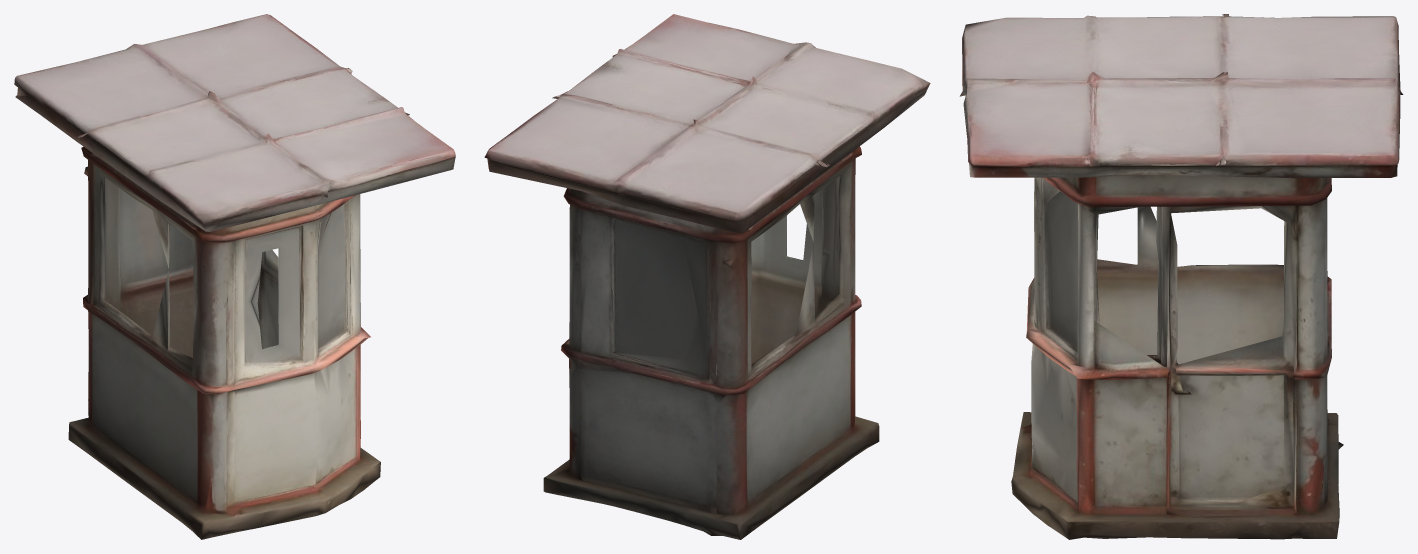
The model's file is qr_booth.glb.
3 views of the same model, side by side, from view 1: azimuth 30°, elevation 25°; view 2: azimuth 150°, elevation 25°; view 3: azimuth 270°, elevation 25° (orthographic). The views are drawn at different scales.
Visible parts, largest first — view 1: tripo_node_1440e89d-fc57-4e28-9fdc-a1f017408dc4; view 2: tripo_node_1440e89d-fc57-4e28-9fdc-a1f017408dc4; view 3: tripo_node_1440e89d-fc57-4e28-9fdc-a1f017408dc4.
Boxes of the visible parts, left/top/right/bottom form: tripo_node_1440e89d-fc57-4e28-9fdc-a1f017408dc4: left=14, top=14, right=455, bottom=539; tripo_node_1440e89d-fc57-4e28-9fdc-a1f017408dc4: left=484, top=14, right=930, bottom=539; tripo_node_1440e89d-fc57-4e28-9fdc-a1f017408dc4: left=959, top=14, right=1403, bottom=539.
Size of the model in its own units: 0.793 by 1 by 0.9751.
1 material, 1 textured.
